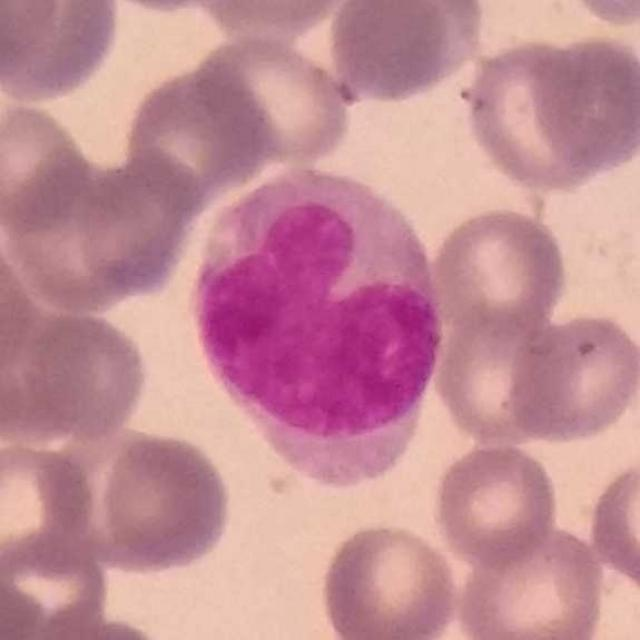mono: (197, 163, 450, 489)
